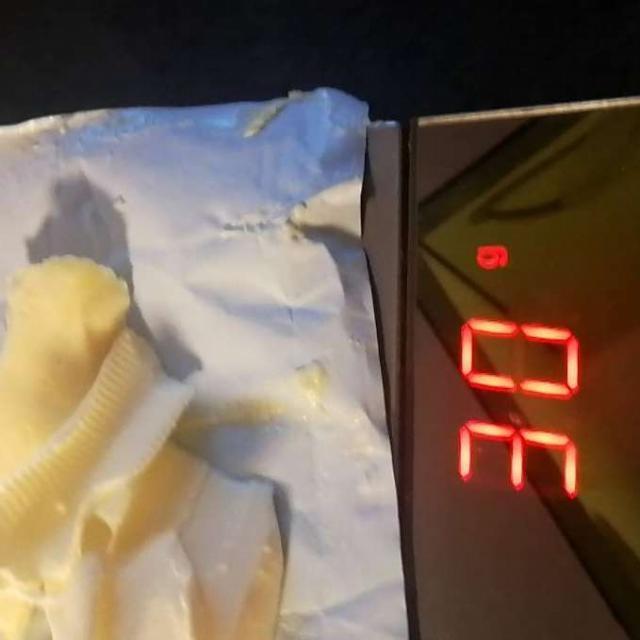butter: (7, 235, 284, 627)
